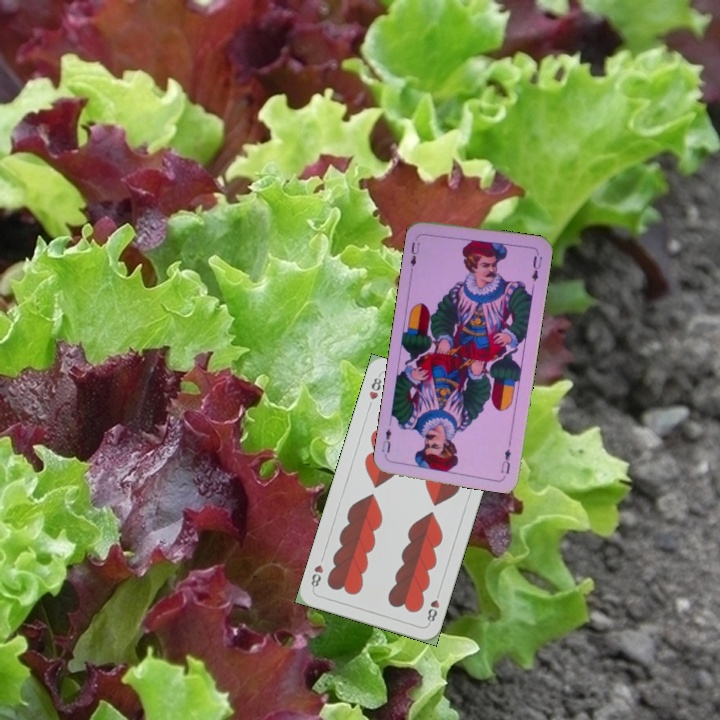EU: (406, 233, 422, 269), (497, 445, 514, 476)
H8: (423, 587, 443, 627), (365, 371, 384, 402)
